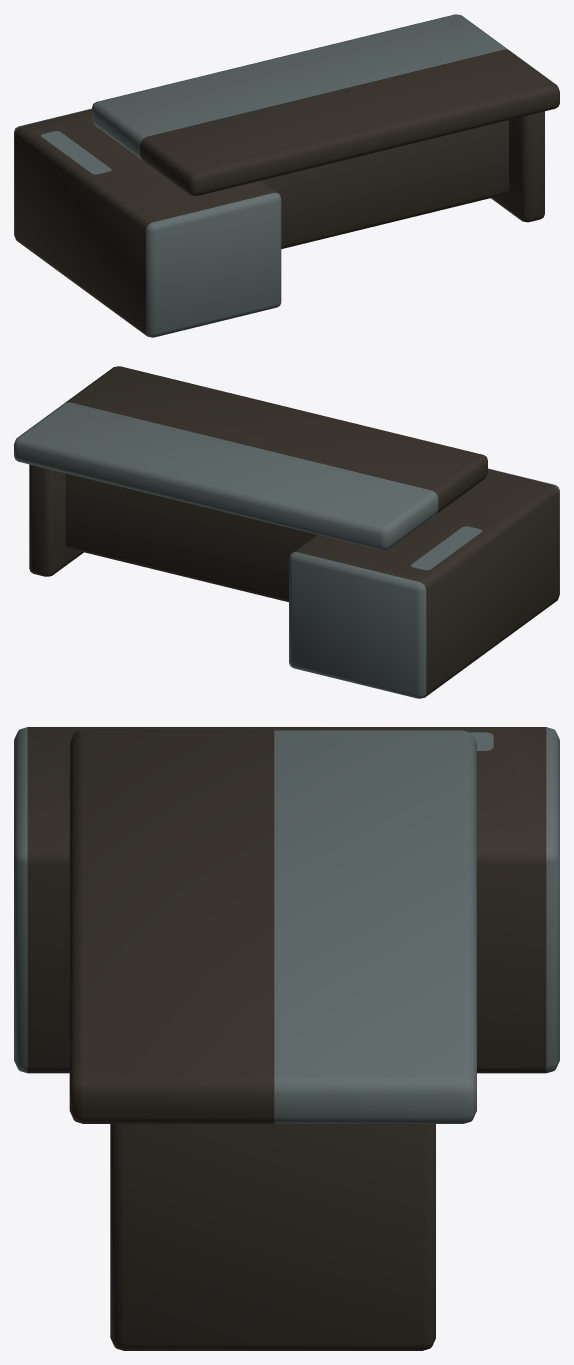
File: Boss-Table.fbx
The picture shows the model from 3 angles, top to bottom: view 1: azimuth 30°, elevation 25°; view 2: azimuth 150°, elevation 25°; view 3: azimuth 270°, elevation 25°; orthographic projection. The views are drawn at different scales.
Parts seen in each view (by area): view 1: Boss-Table; view 2: Boss-Table; view 3: Boss-Table.
Boxes of the visible parts, x1,y1,x2,y2 form: Boss-Table: [14, 14, 559, 337]; Boss-Table: [14, 366, 559, 698]; Boss-Table: [14, 727, 559, 1350].
Size of the model in its own units: 3.03 by 0.9569 by 1.7.
